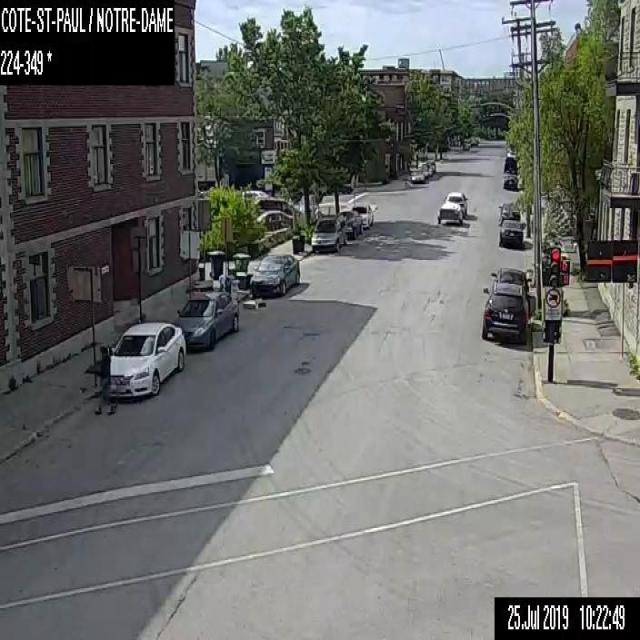pedestrian: (94, 343, 112, 415)
vehicle: (109, 321, 185, 399), (171, 292, 238, 350), (480, 281, 530, 344), (249, 252, 299, 298), (310, 214, 346, 252), (489, 265, 531, 292), (436, 190, 468, 223), (497, 219, 524, 248), (254, 198, 298, 214), (256, 210, 292, 228), (338, 210, 362, 237), (350, 202, 373, 228), (497, 201, 520, 224), (502, 152, 517, 172), (241, 190, 269, 199), (502, 174, 518, 189), (410, 170, 424, 182), (422, 162, 432, 177), (426, 159, 436, 172)
